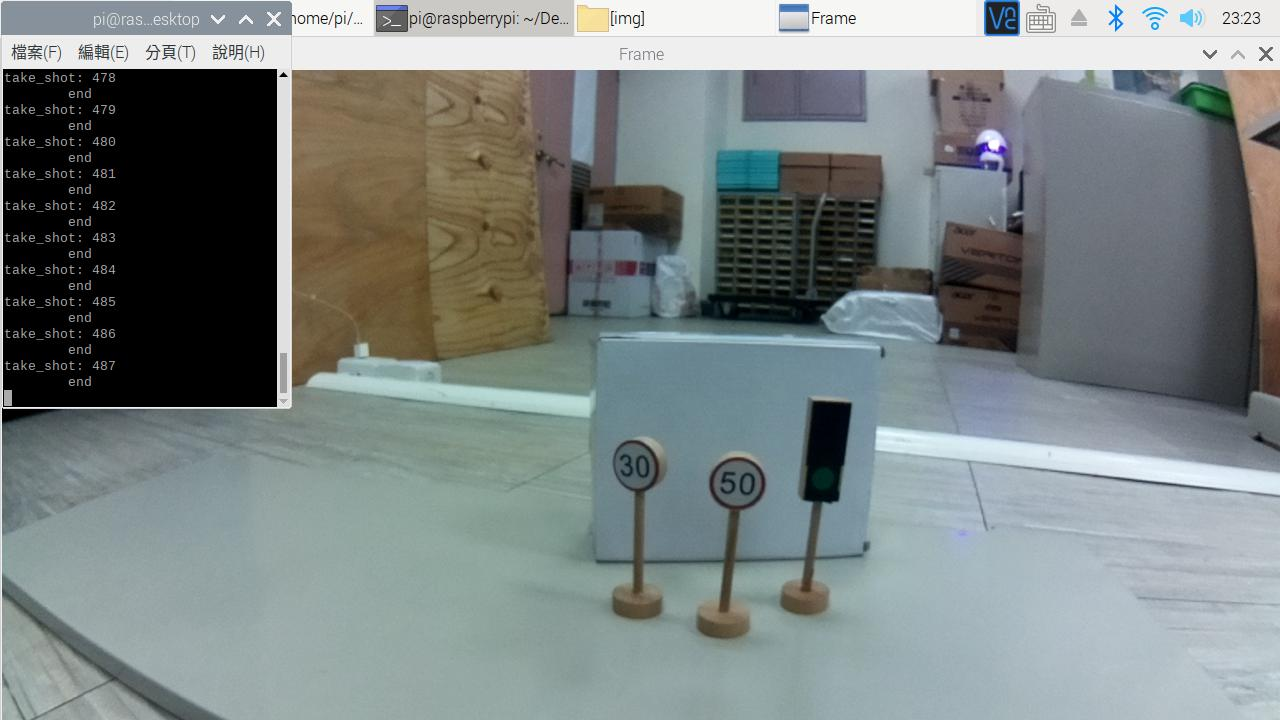Green: (785, 386, 859, 516)
Speed30: (608, 430, 674, 498)
Speed50: (700, 451, 772, 525)
